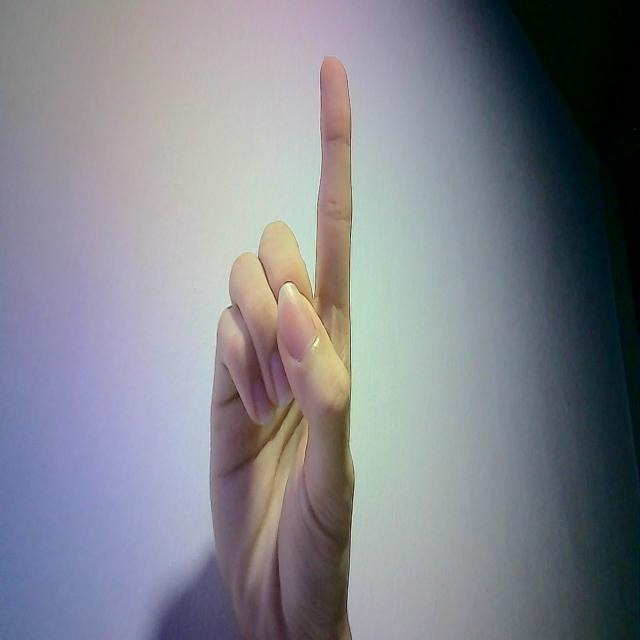D: (202, 38, 368, 640)
